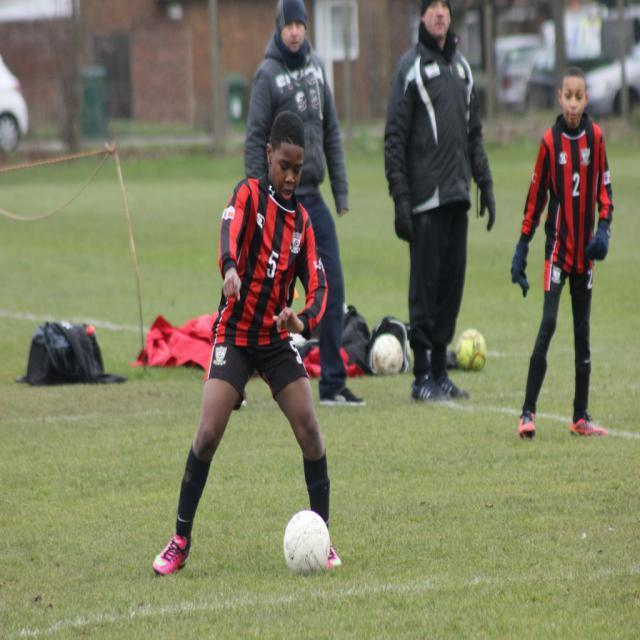football: (275, 495, 331, 585), (363, 333, 427, 385), (447, 324, 502, 384)
